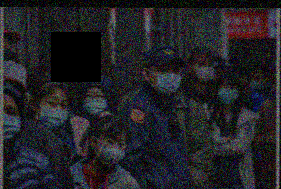with_mask: (36, 94, 70, 131), (149, 63, 181, 98), (95, 137, 127, 168), (2, 101, 22, 145), (82, 89, 109, 119), (192, 58, 216, 85), (215, 82, 240, 106), (3, 39, 22, 64), (248, 74, 265, 93)
